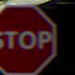Stop: (0, 1, 60, 73)
